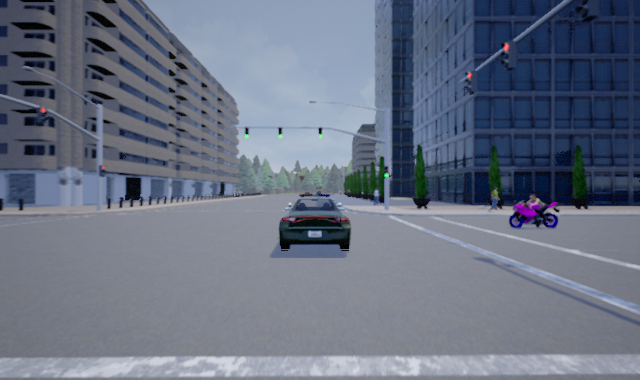motobike: (508, 193, 559, 227)
pedestrian: (487, 185, 500, 211), (372, 185, 380, 206)
traffic_light: (500, 39, 517, 73), (462, 68, 478, 97), (36, 106, 49, 126), (382, 166, 390, 179), (99, 165, 106, 178), (277, 126, 283, 139), (318, 127, 323, 140), (244, 127, 249, 140)
vehicle: (278, 191, 351, 250)
